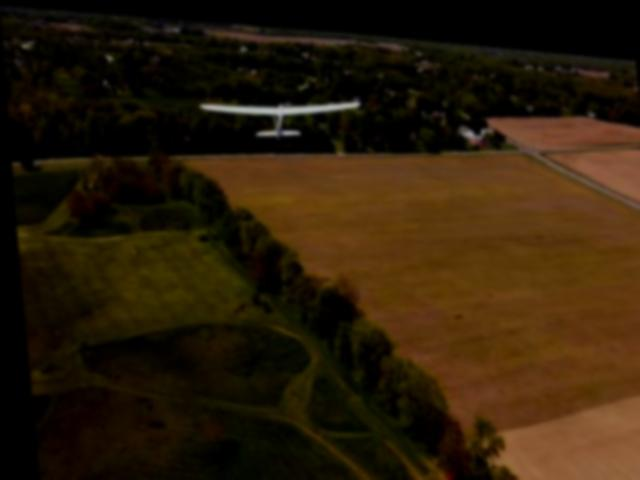uav: (191, 68, 370, 155)
